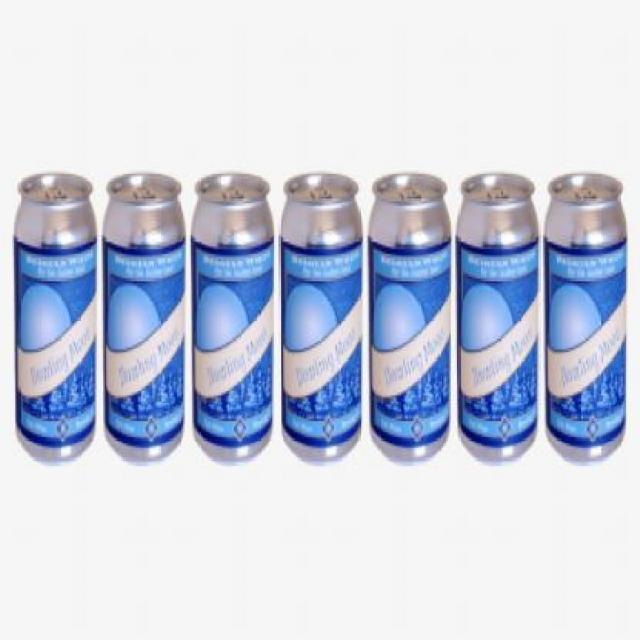can: (2, 138, 98, 472), (544, 160, 638, 492), (192, 108, 276, 478), (454, 156, 547, 481), (280, 132, 368, 472), (364, 151, 454, 472), (104, 131, 188, 471)
